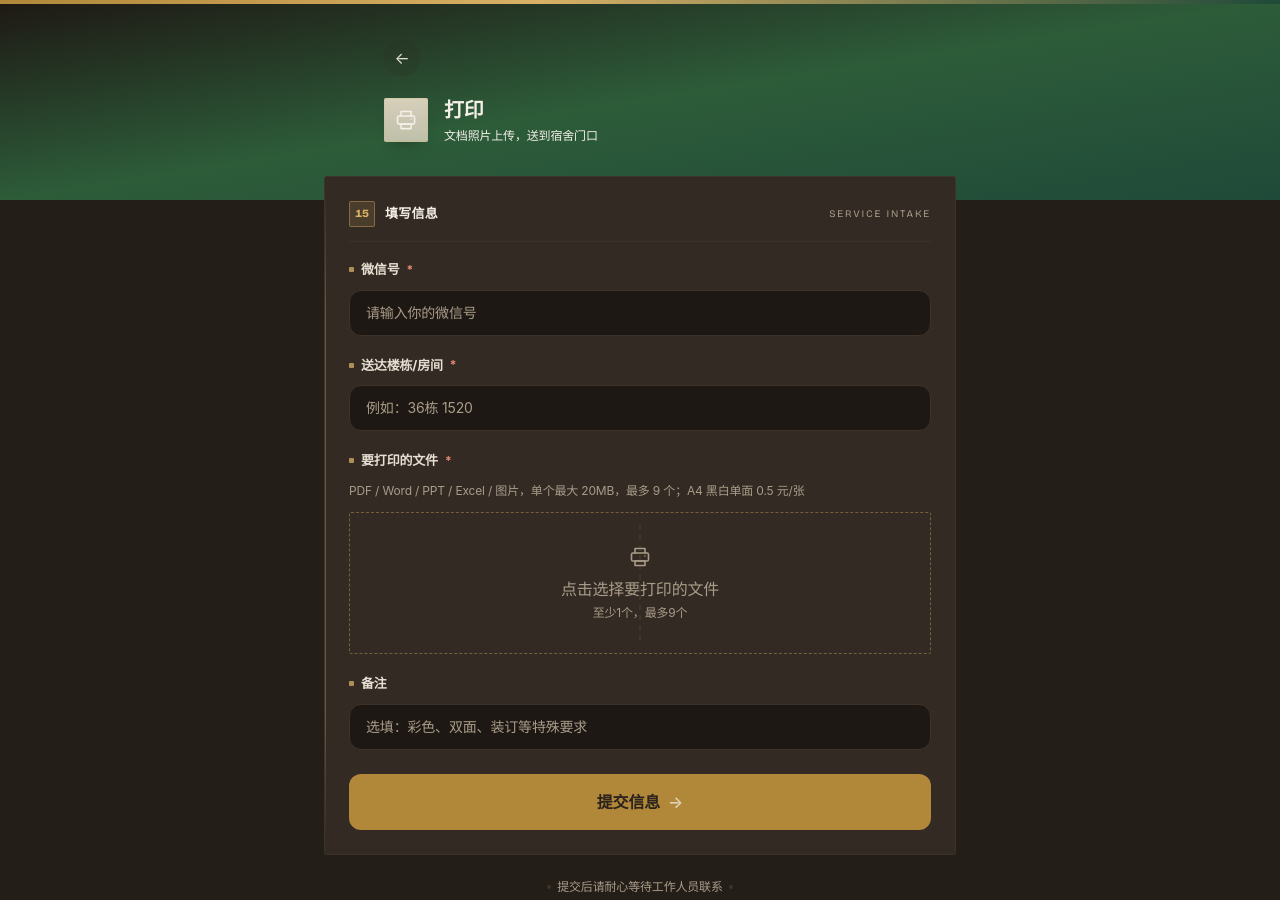
Scenario: ServiceFormPage 文件上传（打印服务） › 必填未传就提交：拦住、说清是哪个字段，并且不发请求
Step 1. Type "wx_1" into the field labelled "微信号 *" → (640, 312), box x1=349 y1=290 x2=931 y2=336
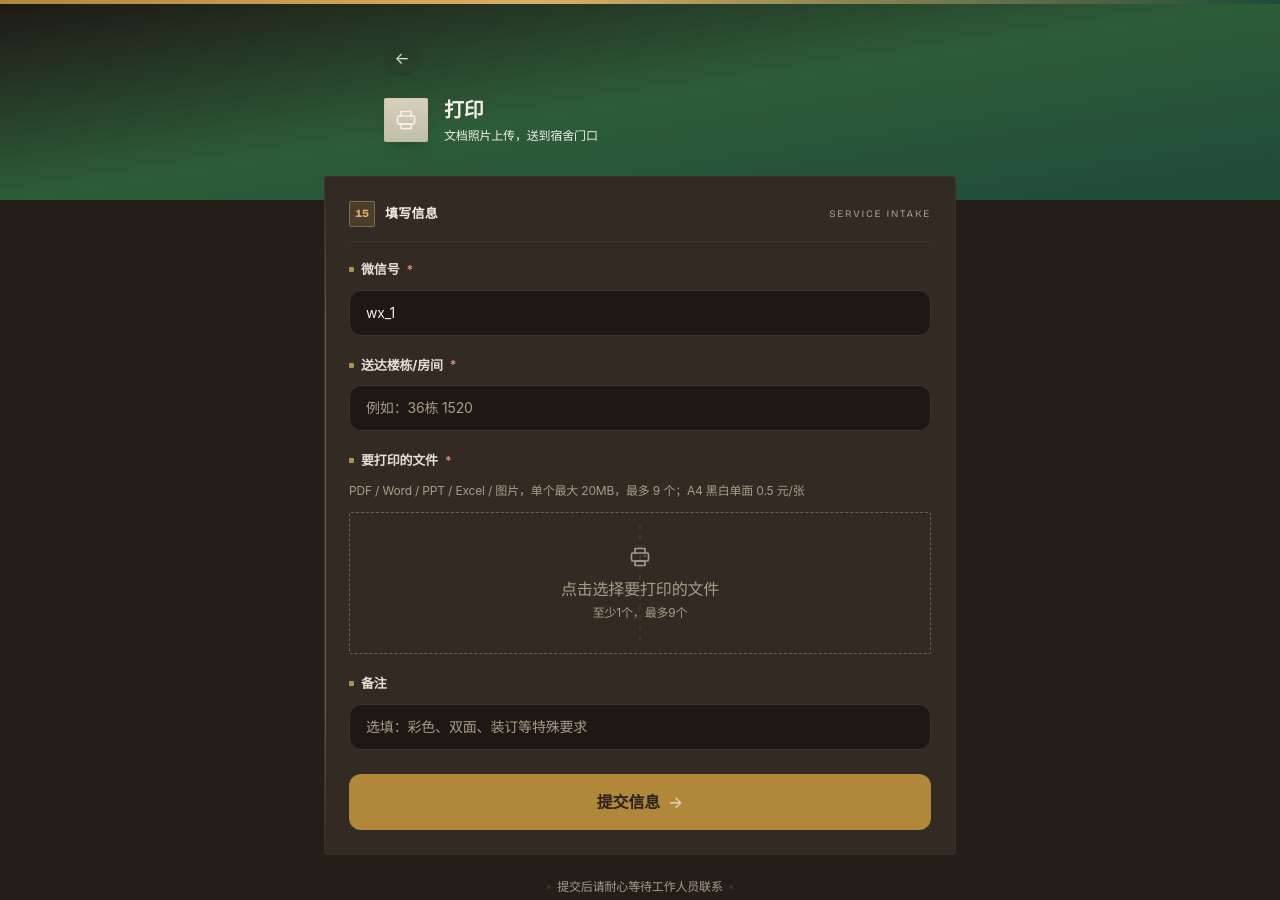
Step 2. Type "36栋 1520" into the field labelled "送达楼栋/房间 *" → (640, 408), box x1=349 y1=385 x2=931 y2=431
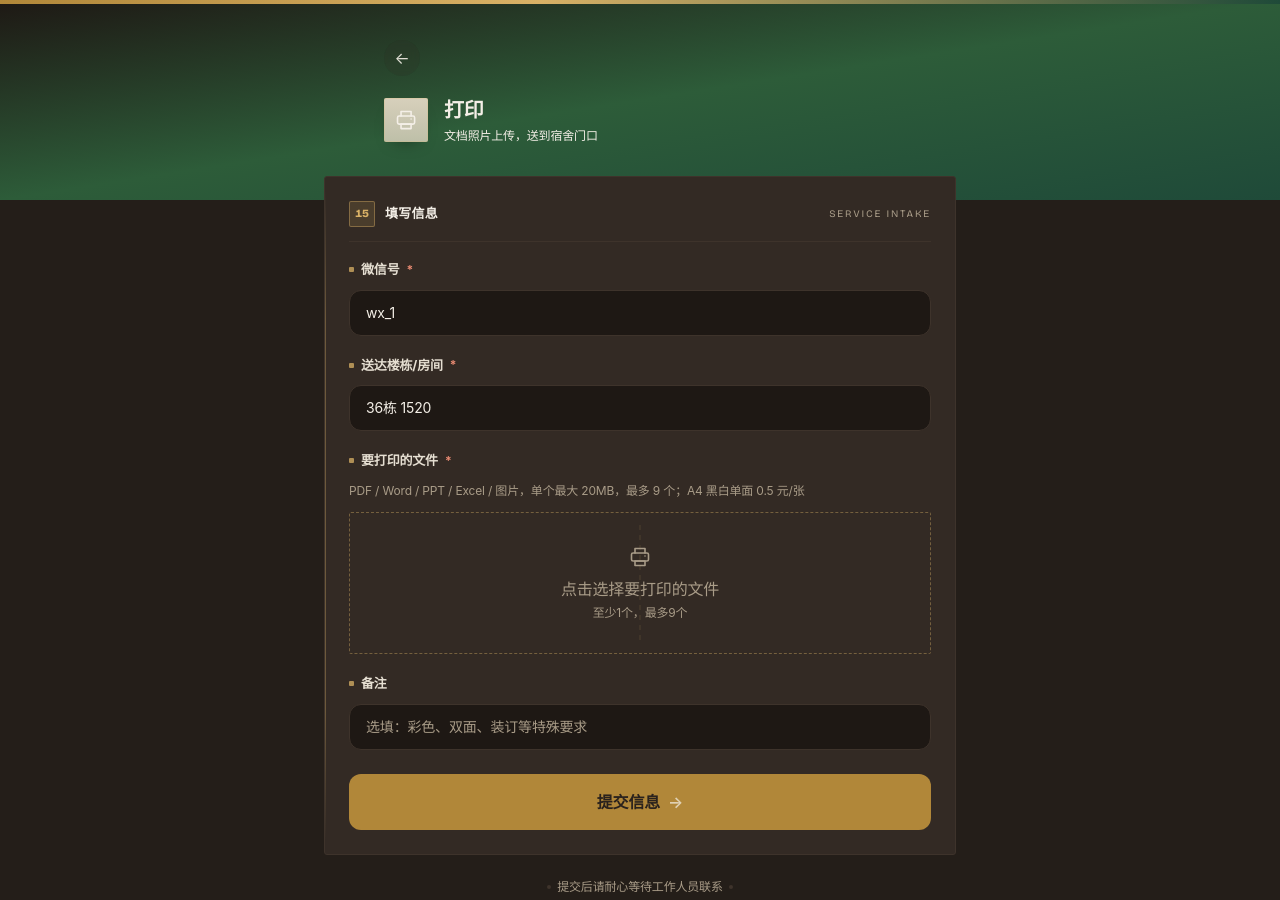
Step 3. Click the button "提交信息 →" → (640, 802), box x1=349 y1=774 x2=931 y2=830
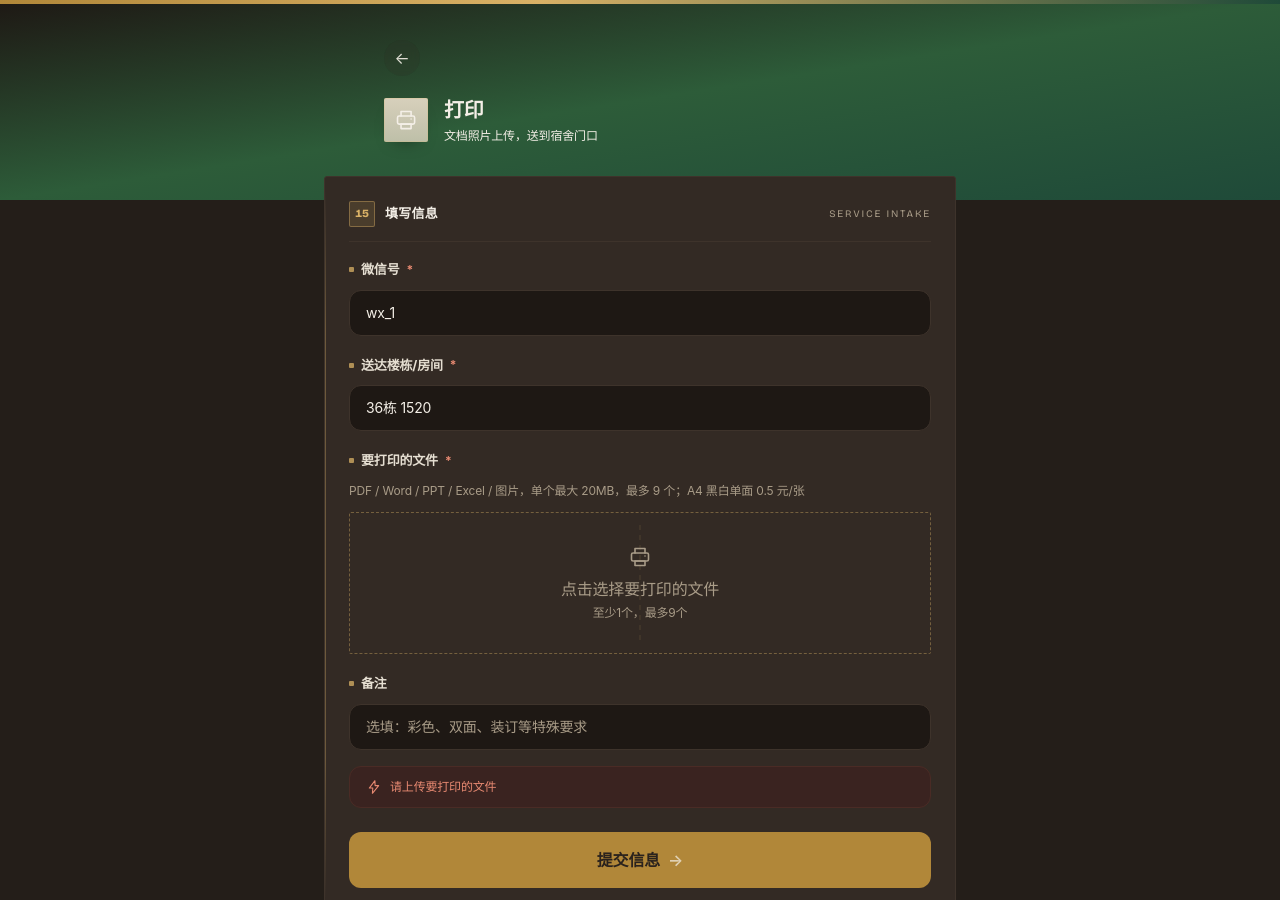
Now the text "请上传要打印的文件" is shown, box x1=366 y1=778 x2=496 y2=794
